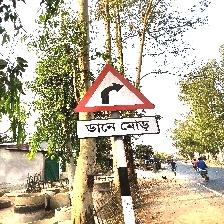Right-turn: (73, 63, 158, 140)
